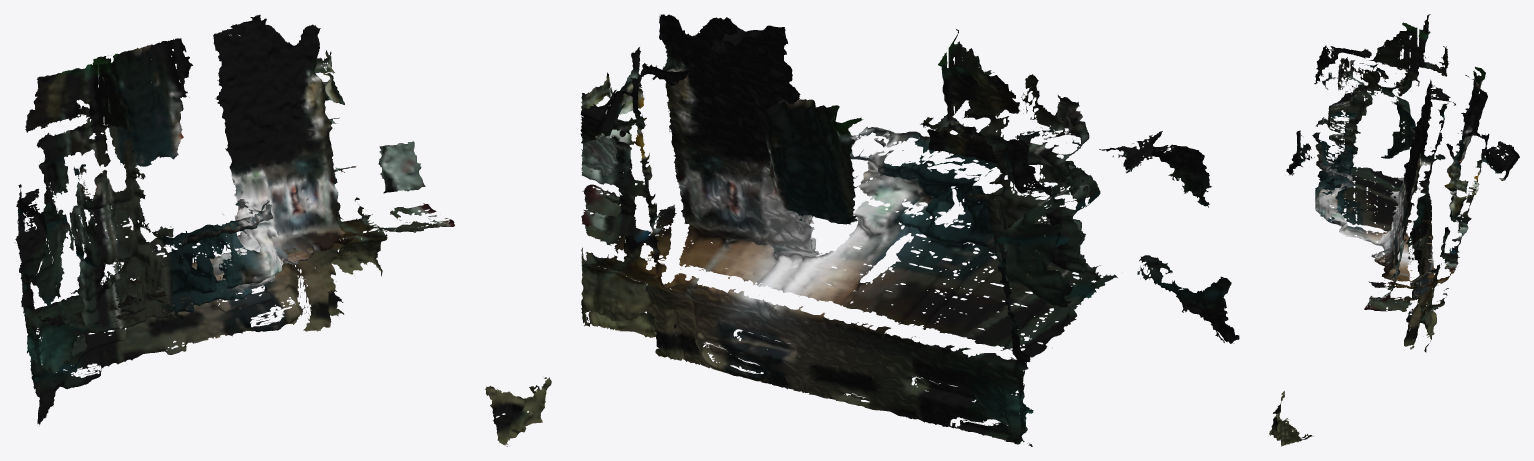
Rendered from color_model_f004_20251226_162840.obj.
3 renders of one model, left to right at view 1: azimuth 30°, elevation 25°; view 2: azimuth 150°, elevation 25°; view 3: azimuth 270°, elevation 25°, orthographic. The views are drawn at different scales.
Size of the model in its own units: 3.68 by 2.68 by 2.05.
